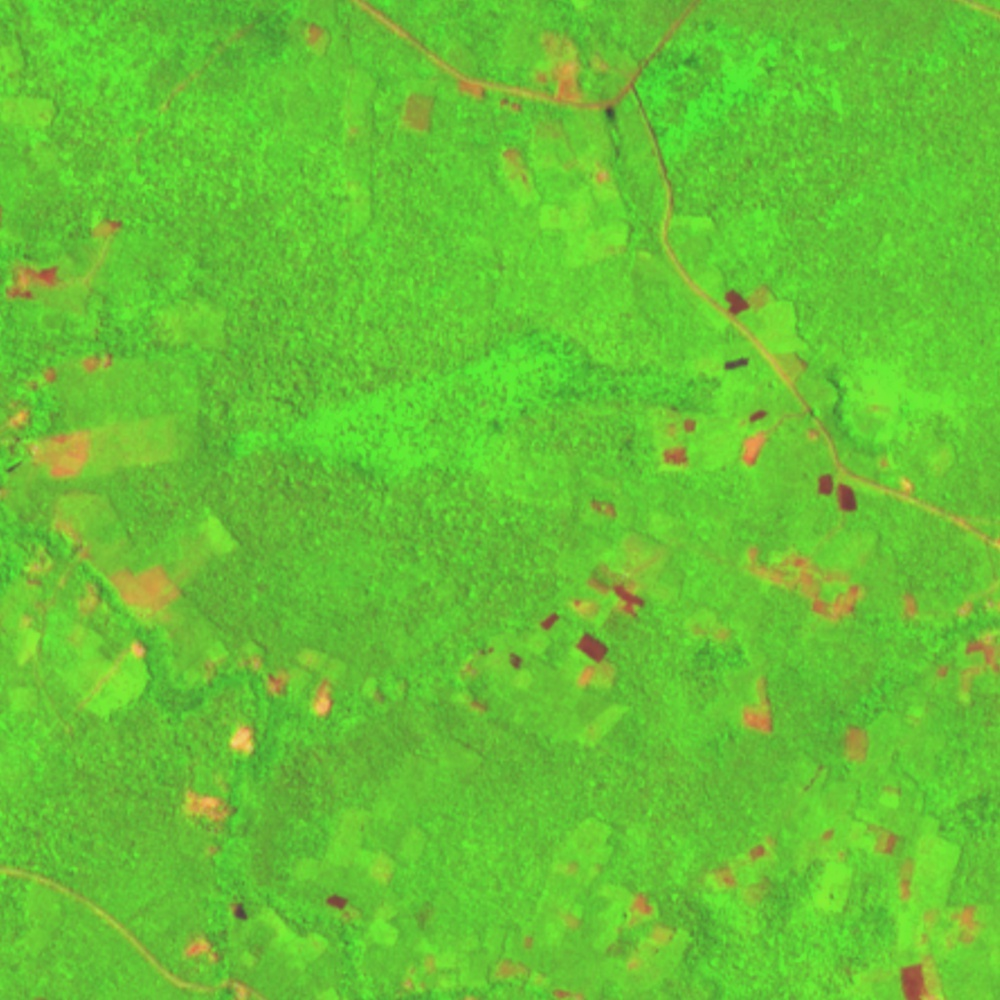legal: (459, 536, 662, 736), (1, 505, 248, 668), (863, 806, 988, 1000), (539, 847, 664, 975), (1, 346, 115, 486), (692, 614, 786, 746), (1, 212, 125, 306), (642, 401, 783, 480), (176, 719, 258, 854), (896, 588, 1000, 693), (740, 540, 854, 615), (249, 657, 404, 710), (387, 77, 529, 133), (698, 839, 779, 911), (181, 899, 253, 967), (842, 715, 887, 775), (811, 470, 859, 513), (719, 286, 772, 316), (584, 495, 626, 519), (222, 976, 264, 999), (322, 888, 355, 914), (714, 355, 751, 378)
